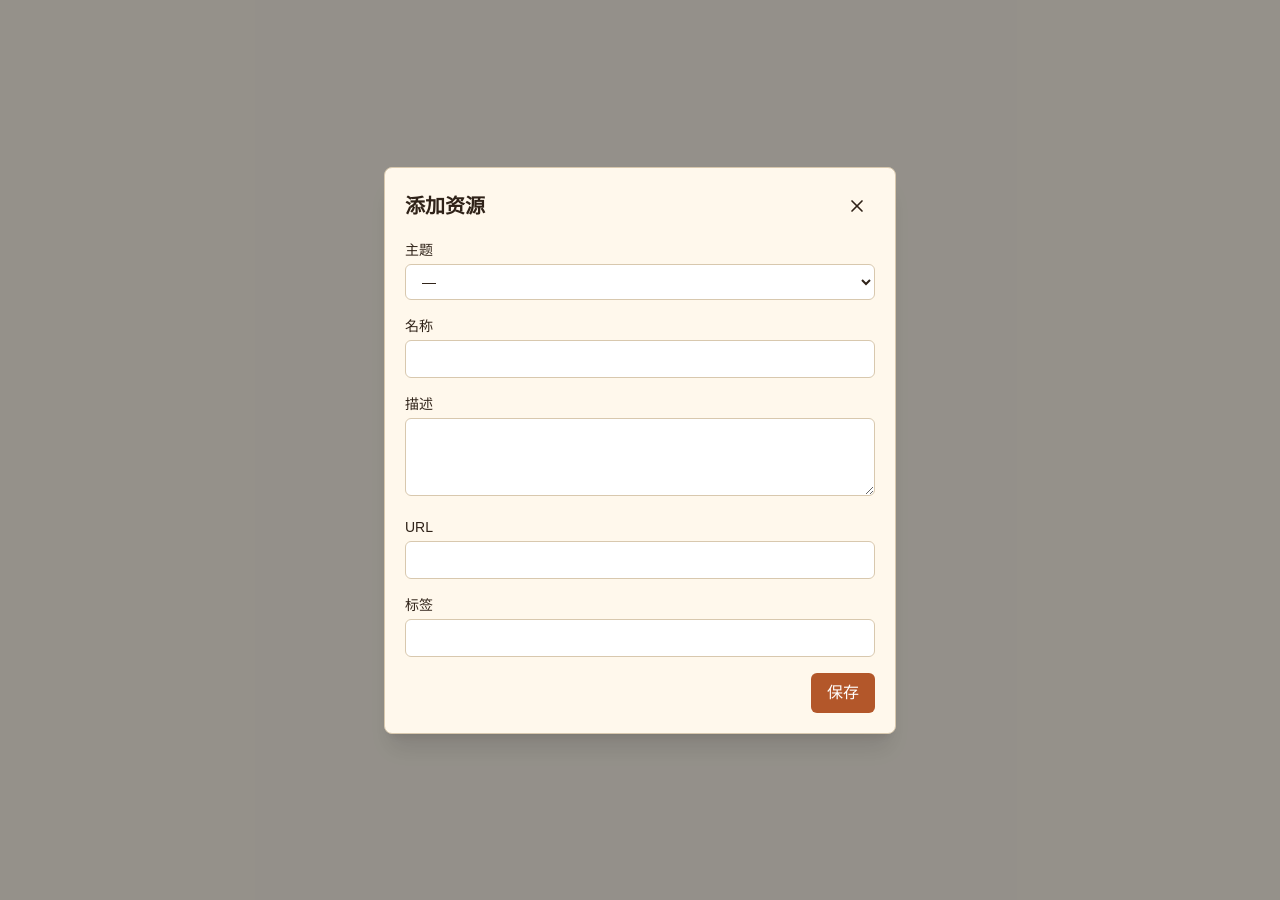
PrivateResourceDialog › preserves the draft after a thrown network error
Step 1. Select "阅读" in the dropdown labelled "主题" → [640, 282], box [405,264,875,300]
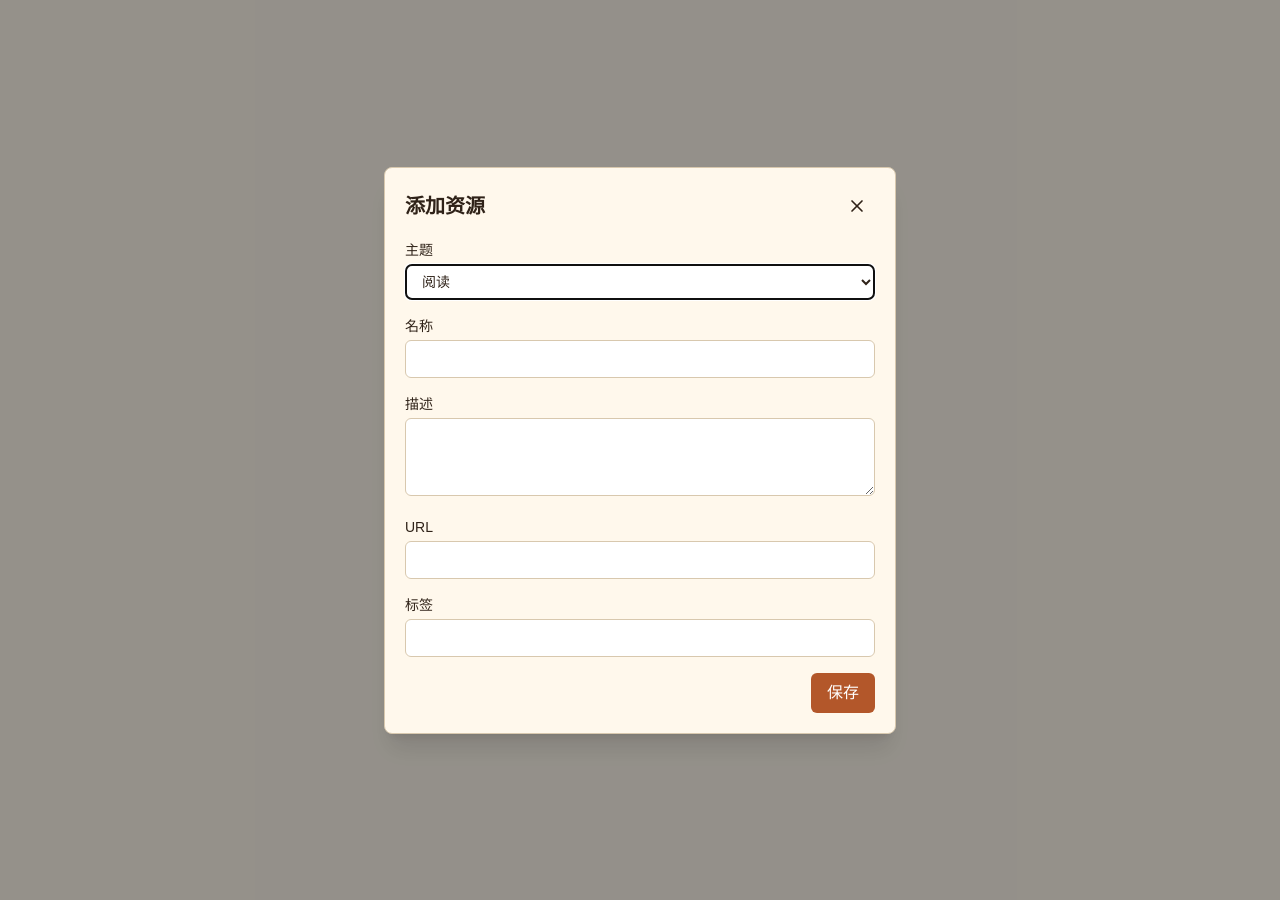
Step 2. Type "  My article  " into the field labelled "名称" → [640, 358], box [405,340,875,378]
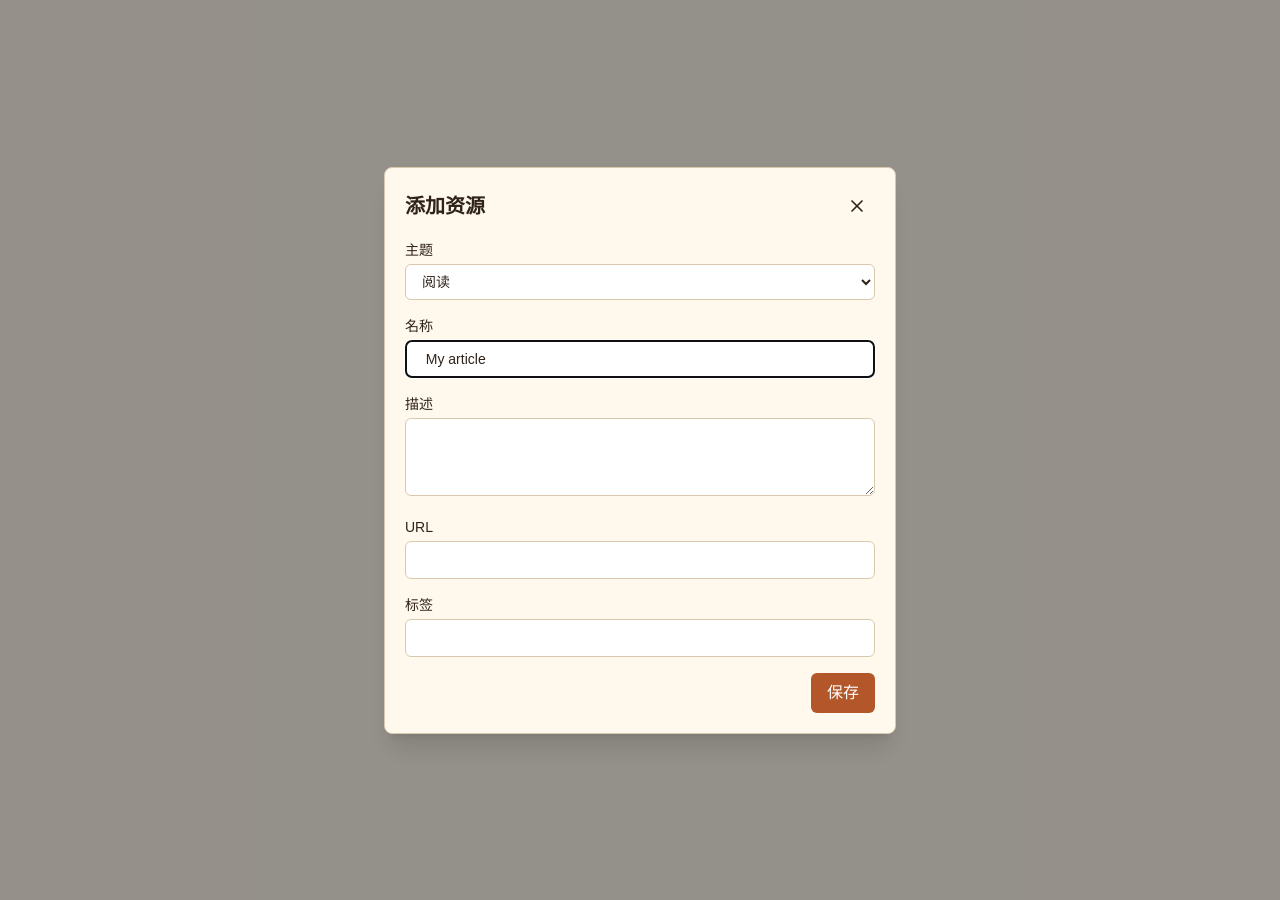
Step 3. Type "  Useful reading  " into the text box labelled "描述" → [640, 456], box [405,418,875,496]
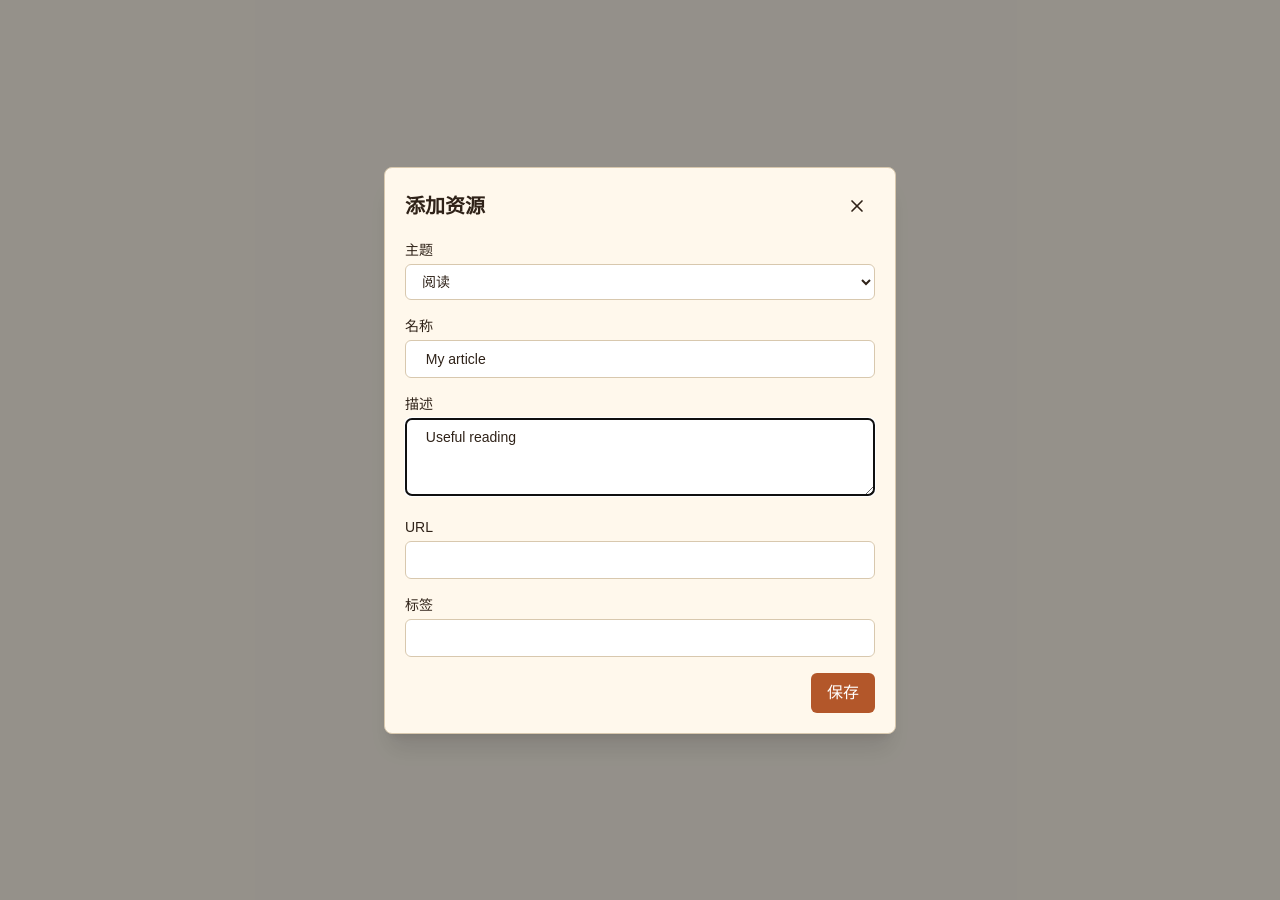
Step 4. Type "https://example.com/new" into the field labelled "URL" → [640, 560], box [405,540,875,578]
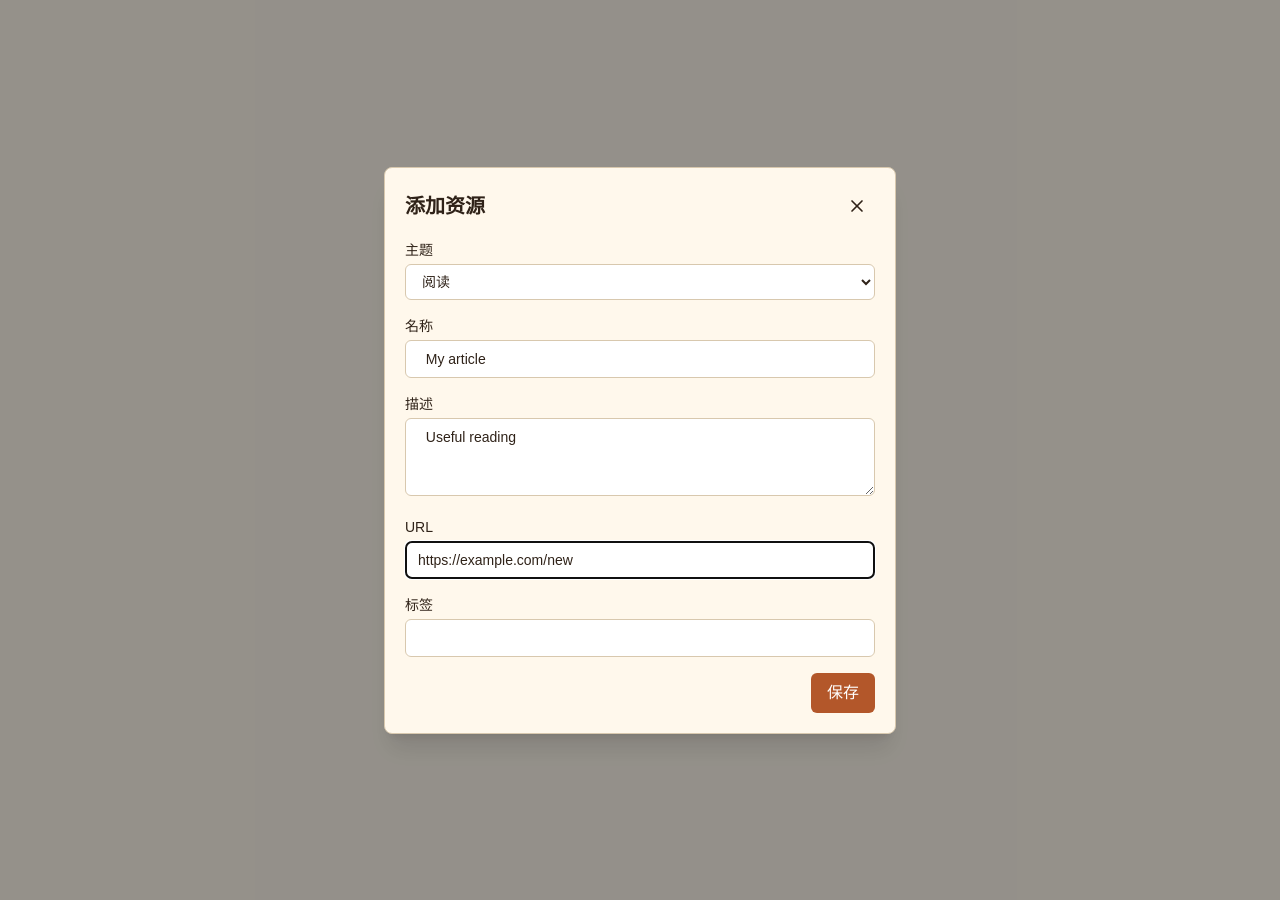
Step 5. Type " news, beginner,news " into the field labelled "标签" → [640, 638], box [405,618,875,656]
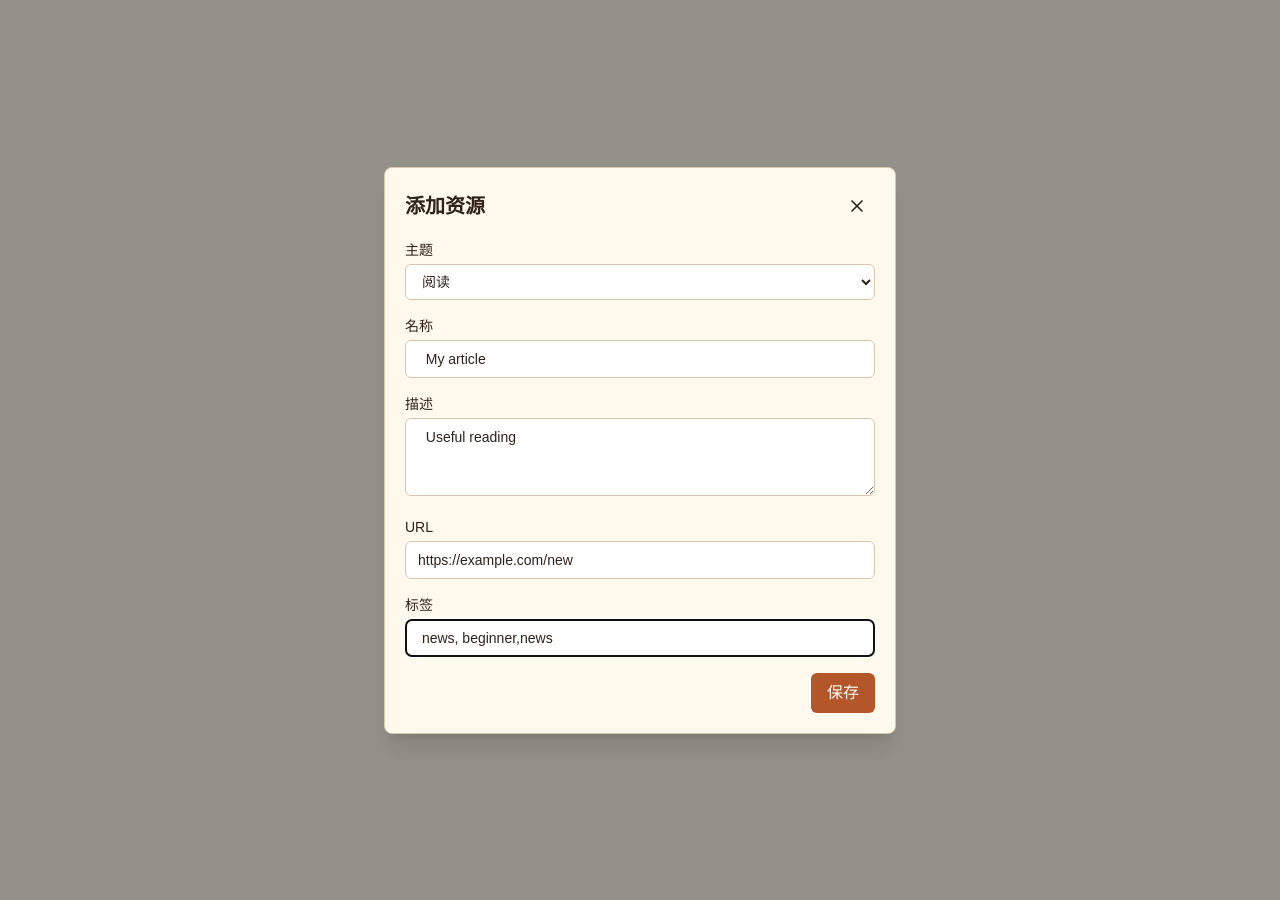
Step 6. Click the button "保存" → [843, 692], box [811,672,875,712]
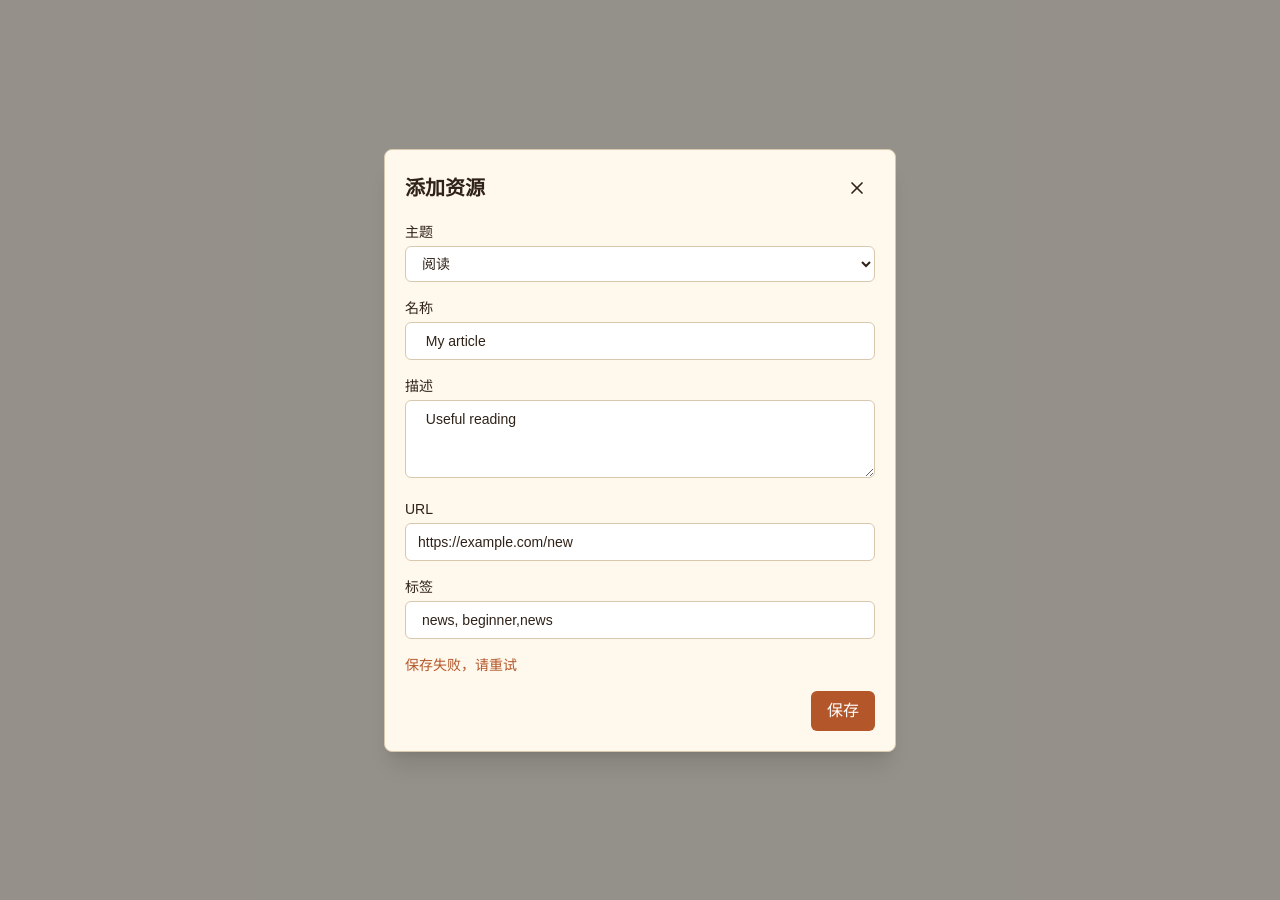
Expected: the text "保存失败，请重试" is shown, [405,656,517,672]
